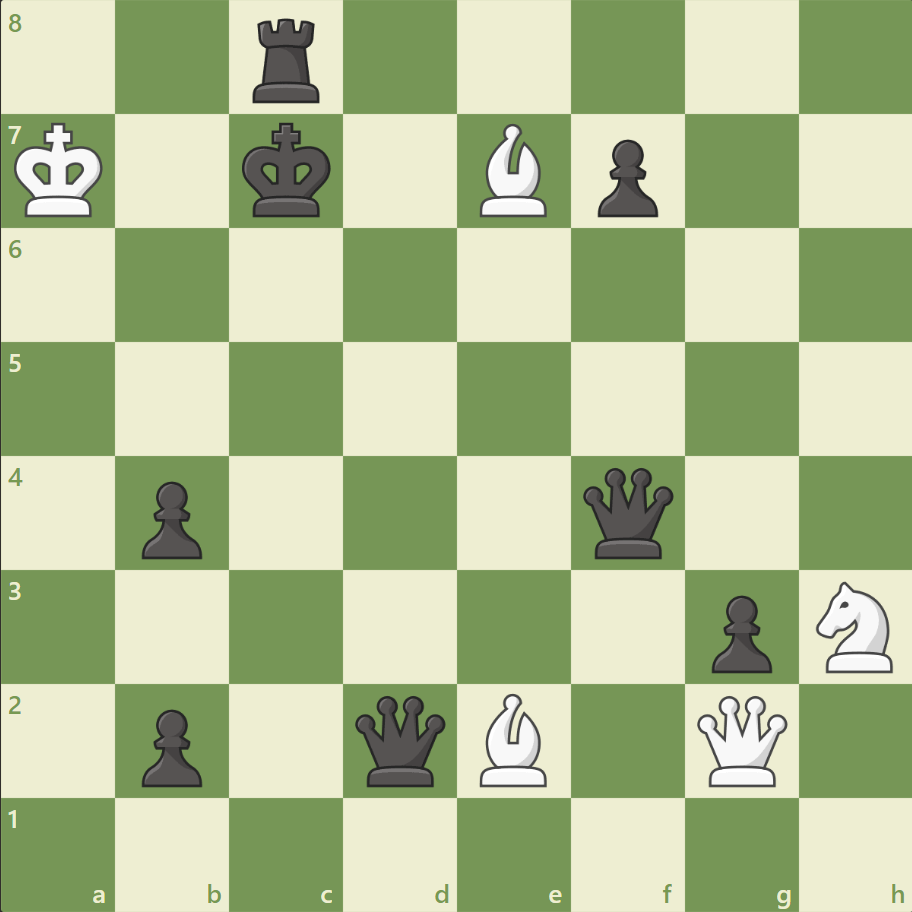B: (471, 687, 555, 790), (471, 120, 555, 222)
K: (11, 117, 111, 225)
N: (806, 575, 903, 677)
Q: (691, 690, 790, 789)
k: (238, 117, 338, 225)
p: (133, 473, 208, 564), (701, 586, 776, 677), (133, 700, 208, 791), (588, 132, 662, 223)
q: (578, 463, 677, 562), (351, 690, 450, 789)
r: (246, 12, 329, 109)
